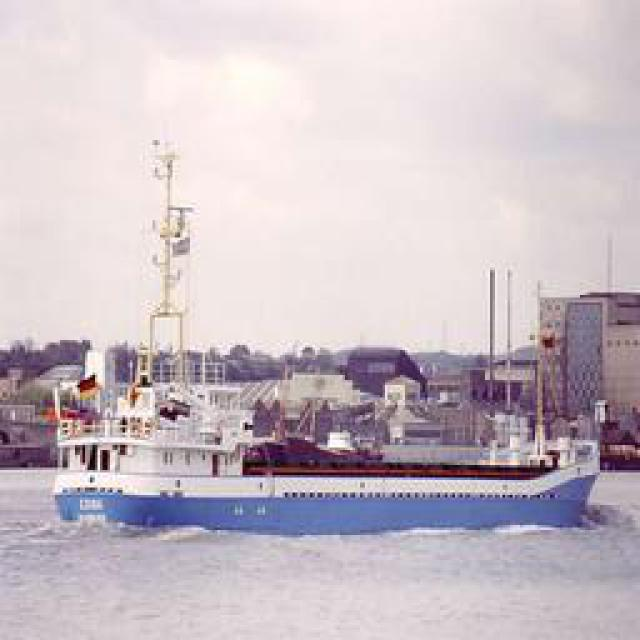Ship: (35, 357, 615, 540)
